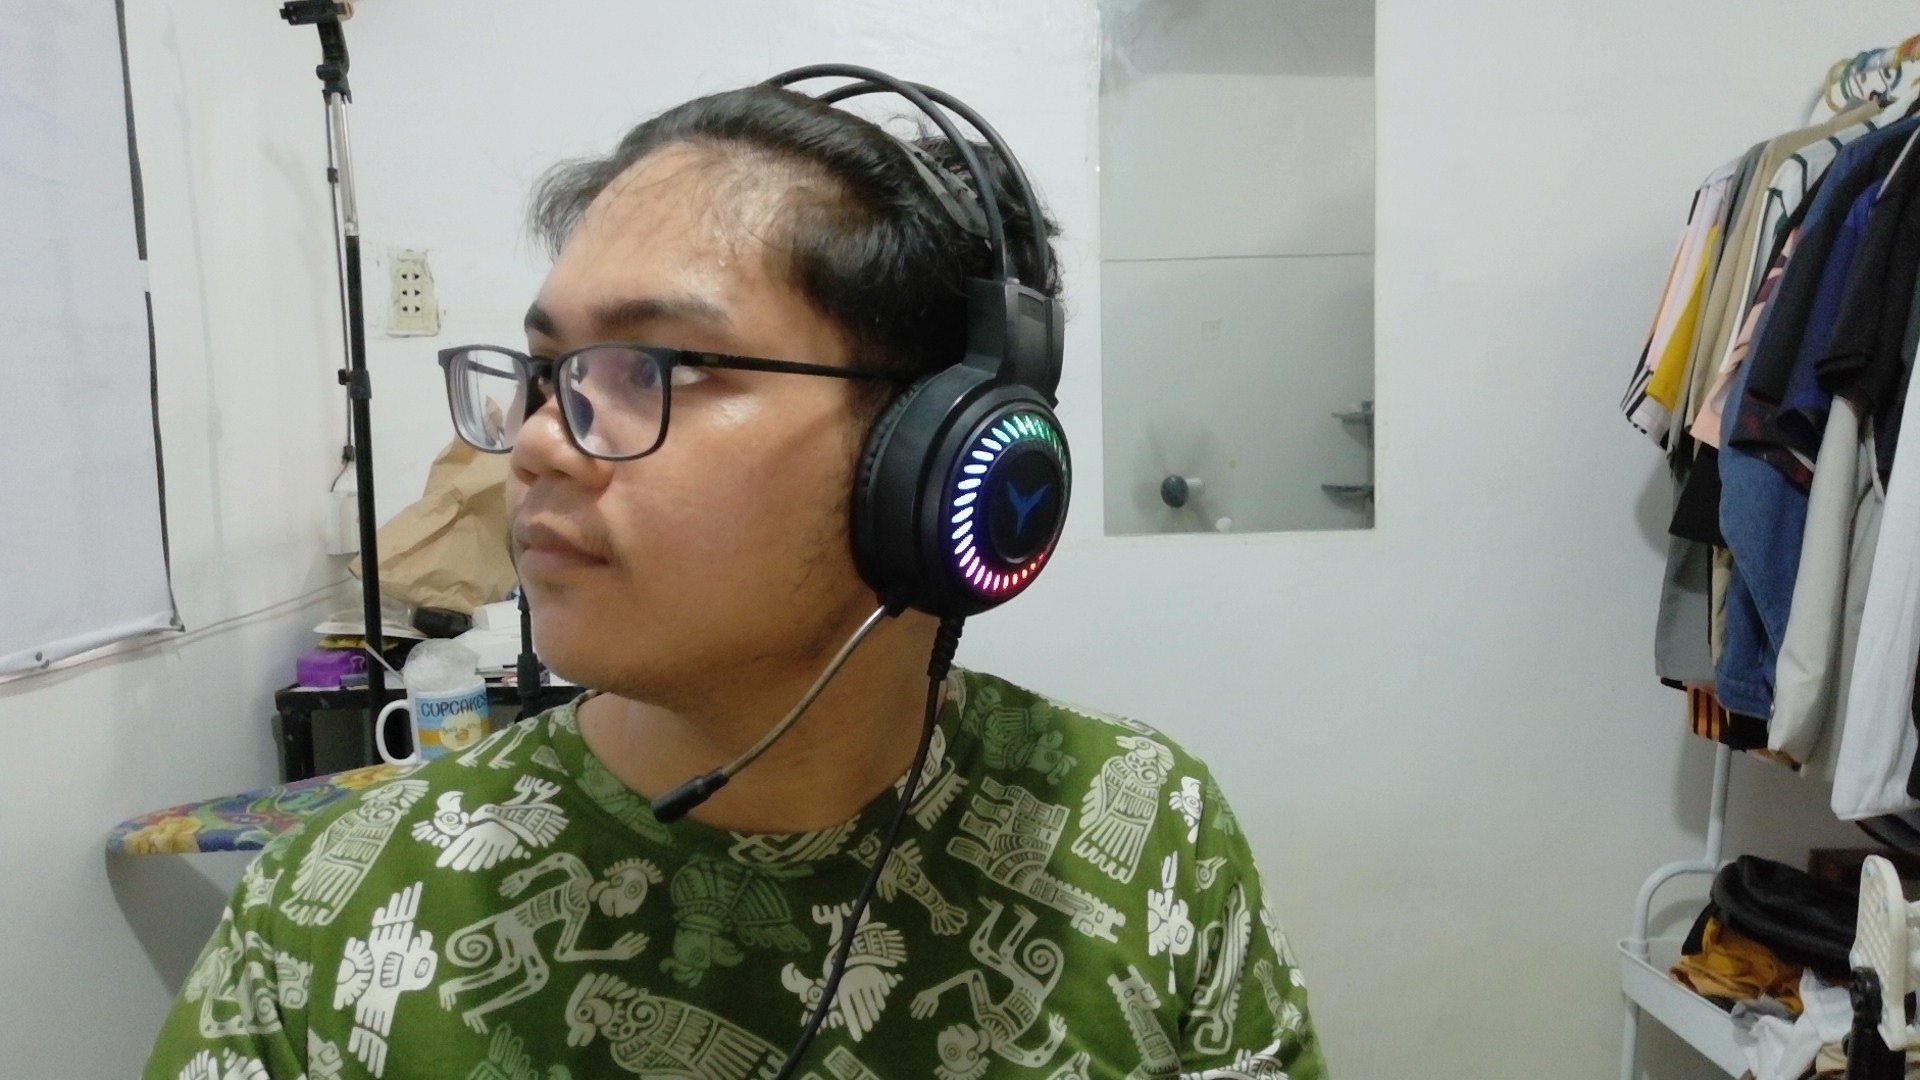face: (467, 35, 1127, 743)
